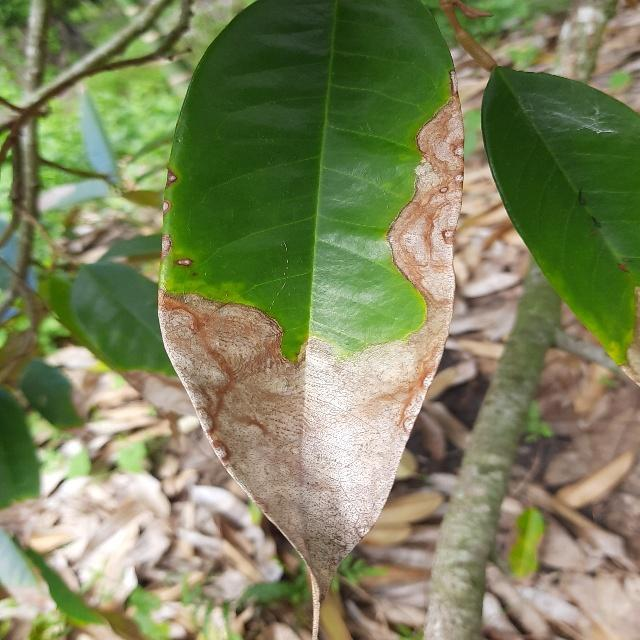Leaf Blight: (151, 0, 473, 640)
